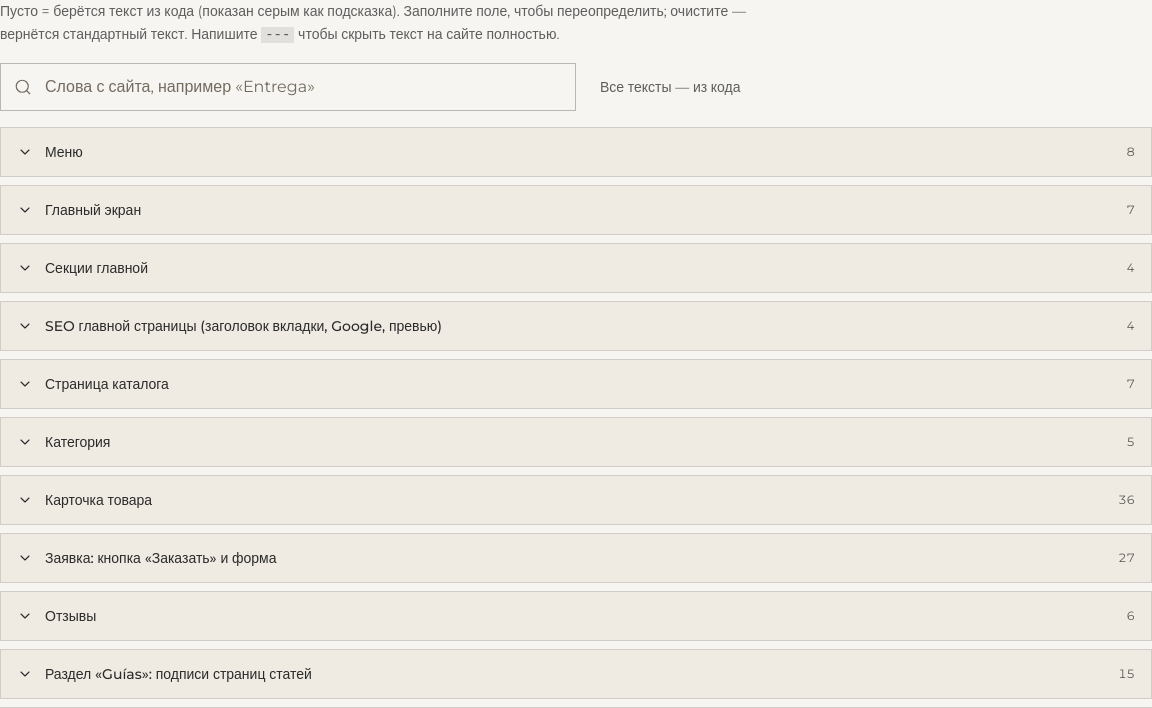
Scenario: TextsEditor › says so when nothing matches
Type "zzzz-nada" into the search field named "Поиск по текстам" at point(288, 86), box x1=0 y1=62 x2=576 y2=110
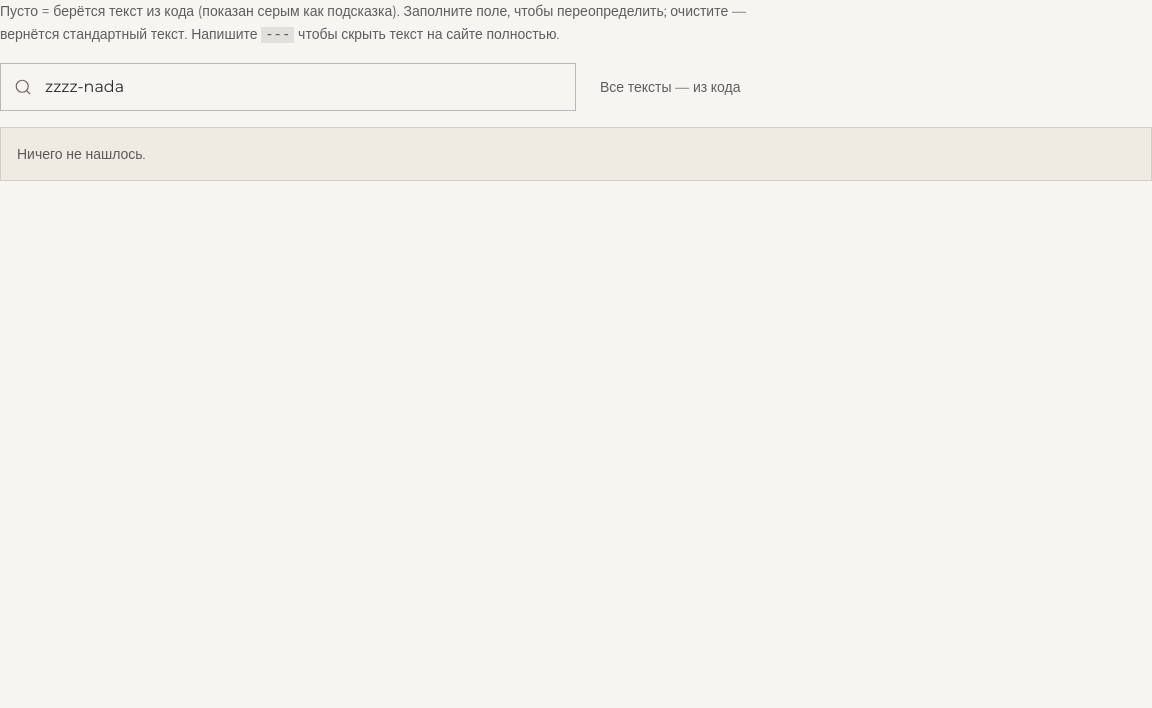
expect the text "Ничего не нашлось." is shown: met, box x1=17 y1=144 x2=146 y2=162
